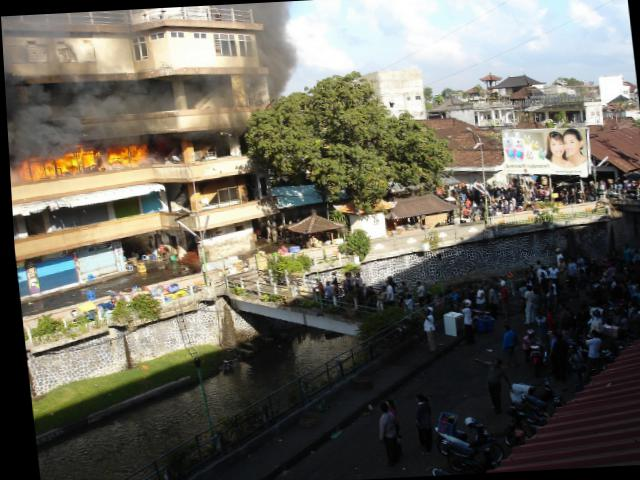fire: (14, 138, 150, 182)
